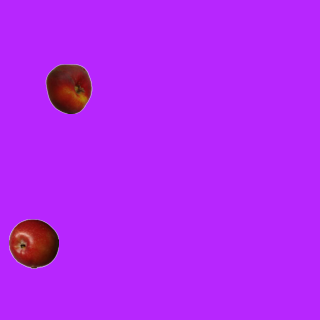Apple Braeburn: (8, 218, 58, 268)
Nectarine Flat: (43, 63, 93, 113)
